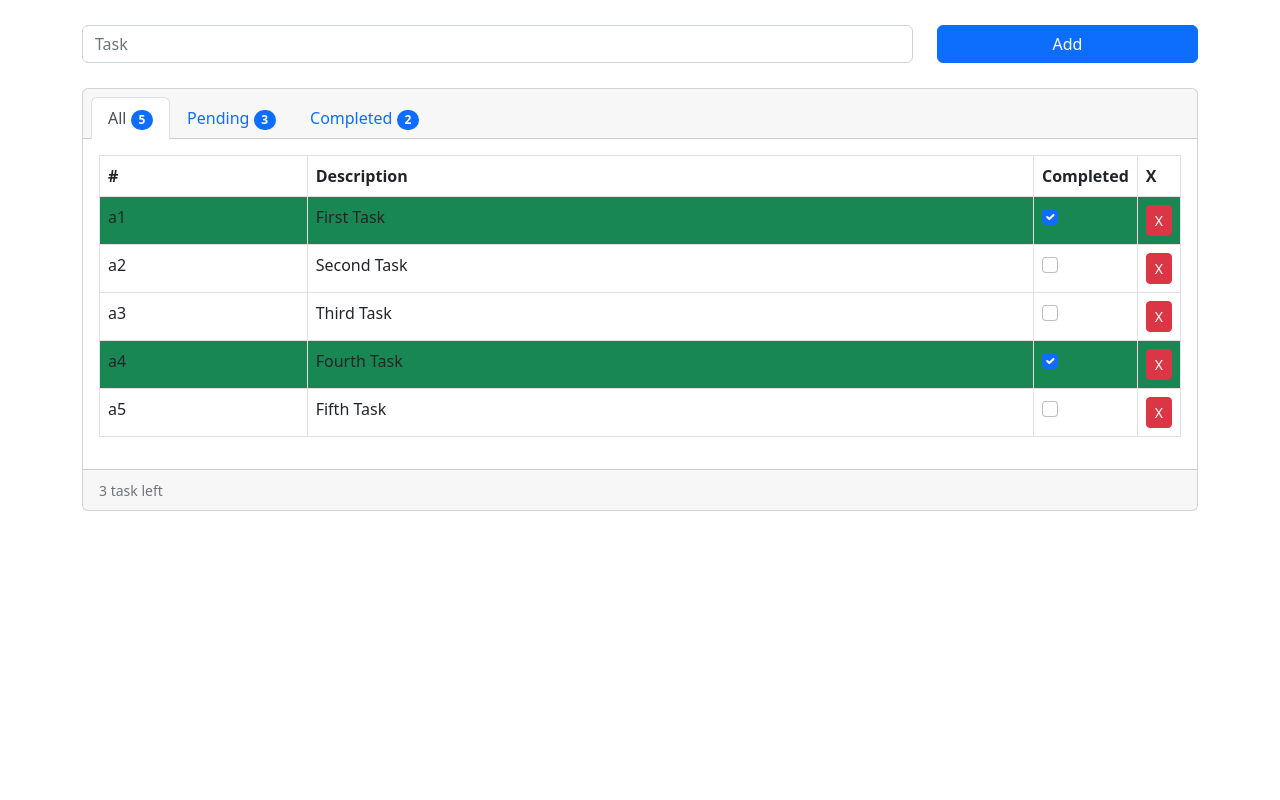
Test: Todo Component › API Failed: Delete Task
Check: the number of rows with test id "task-row" is 5, box x1=100 y1=197 x2=1180 y2=245; x1=100 y1=245 x2=1180 y2=293; x1=100 y1=293 x2=1180 y2=341; x1=100 y1=341 x2=1180 y2=389; x1=100 y1=389 x2=1180 y2=437
// simulate: click on Delete Task Button
What coordinates should you click on to do the following:
click the button "X" in the row of "a3"
I would click on:
 (1159, 317)
Its box is x1=1146 y1=301 x2=1172 y2=332.
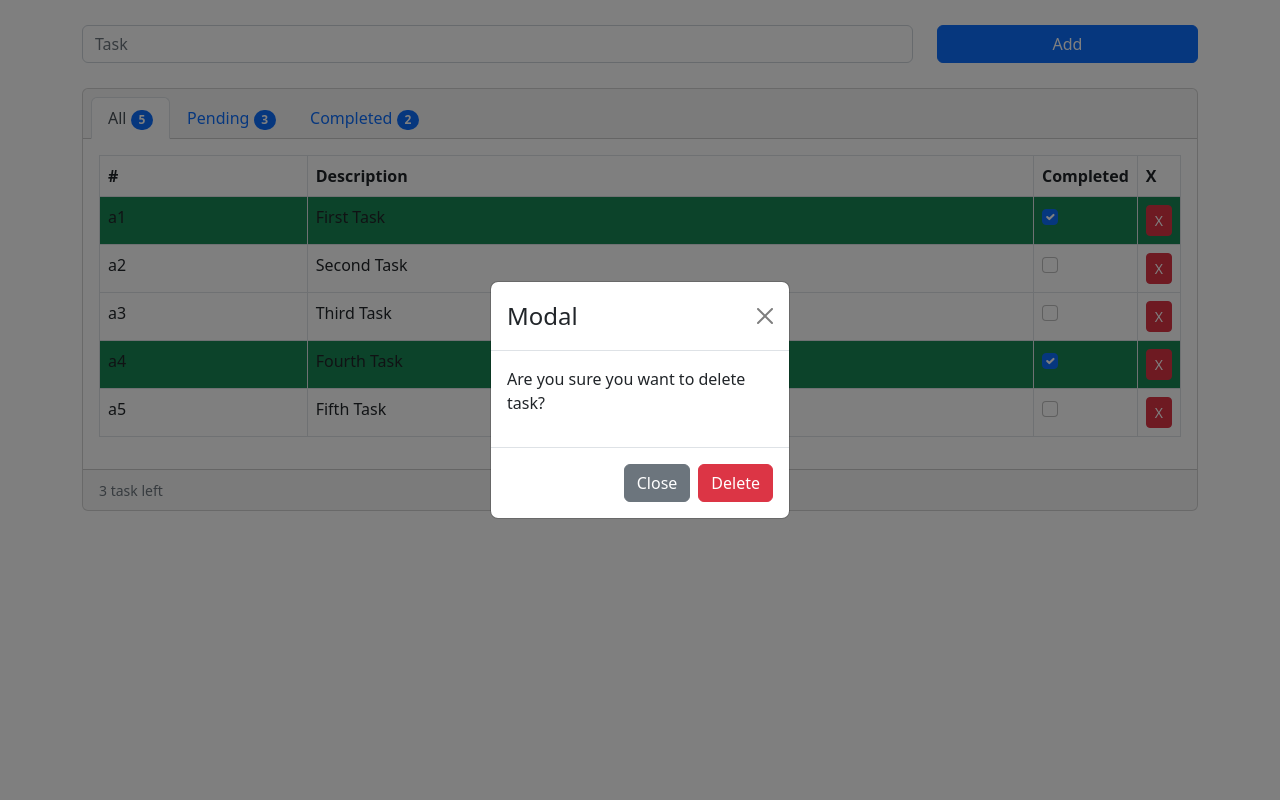
Check: the element with test id "action-modal" is shown, box x1=490 y1=281 x2=790 y2=519
// simulate: click on Delete Button
What coordinates should you click on to do the following:
click the button with test id "button-action"
I would click on:
 (736, 483)
Its box is x1=698 y1=464 x2=773 y2=502.
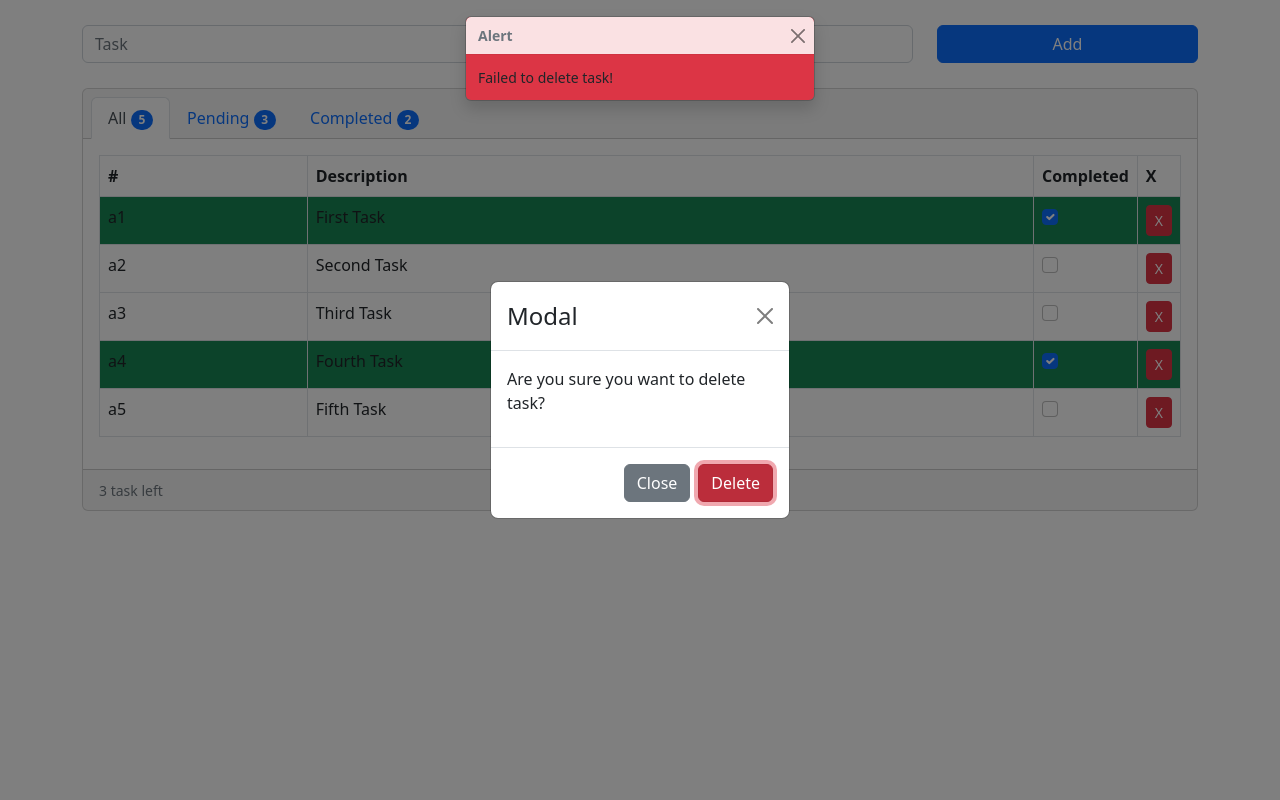
Check: the message "Alert Failed to delete task!" is shown, box x1=465 y1=16 x2=815 y2=101
Check: the text with test id "toaster-body" reads "Failed to delete task!", box x1=478 y1=68 x2=613 y2=87
